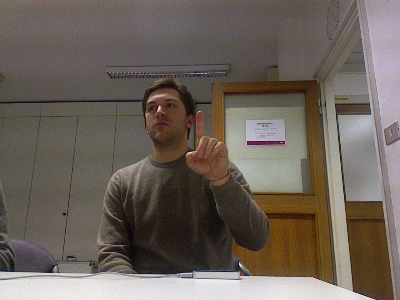食指: (184, 109, 228, 180)
